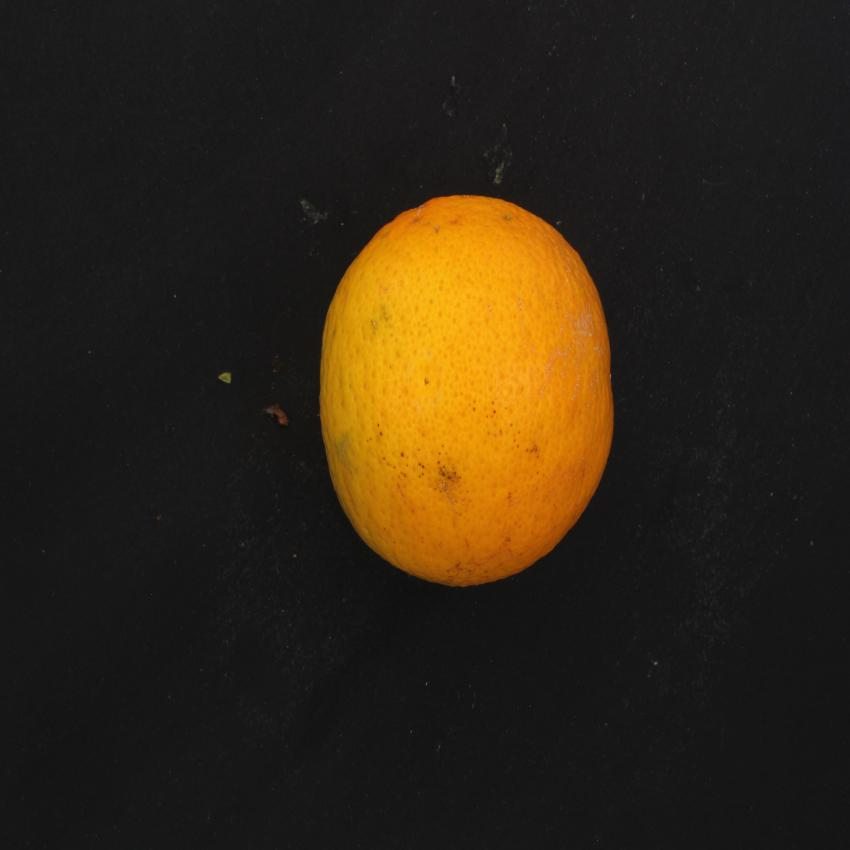Buen estado: (312, 182, 622, 605)
